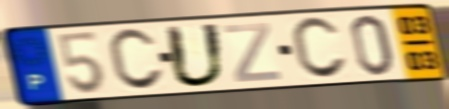0: (347, 12, 397, 78)
5: (55, 29, 107, 97)
C: (288, 14, 350, 82), (105, 26, 167, 93)
U: (162, 21, 229, 90)
Z: (219, 21, 283, 85)
